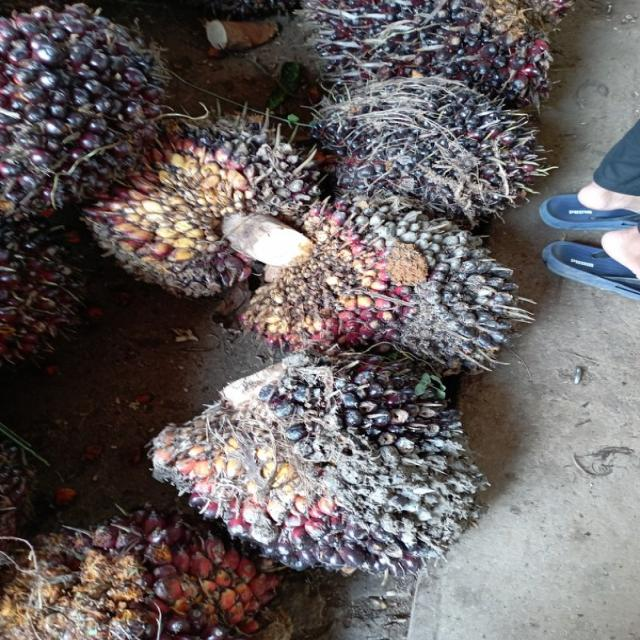fraksi 00: (152, 344, 497, 573), (268, 203, 527, 381), (72, 107, 323, 286), (0, 7, 169, 217), (305, 77, 542, 217), (283, 0, 576, 108)
